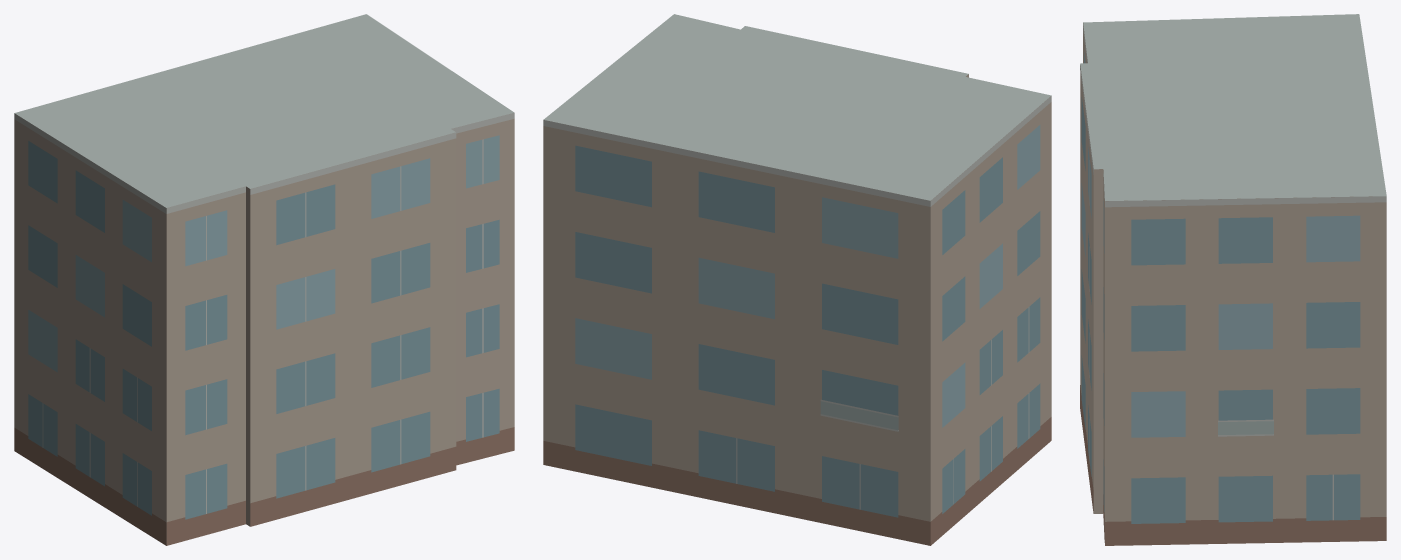
Rendered from survey-upis-32757721.glb.
3 renders of one model, left to right at view 1: azimuth 30°, elevation 25°; view 2: azimuth 150°, elevation 25°; view 3: azimuth 270°, elevation 25°, orthographic. The views are drawn at different scales.
Visible parts, largest first — view 1: survey-upis-32757721.tmp; view 2: survey-upis-32757721.tmp; view 3: survey-upis-32757721.tmp.
Boxes of the visible parts, x1,y1,x2,y2 form: survey-upis-32757721.tmp: (14,14,514,545); survey-upis-32757721.tmp: (543,14,1051,545); survey-upis-32757721.tmp: (1080,14,1386,545).
Bounding box in the file's own units: 15.96 × 13.7 × 11.05.
